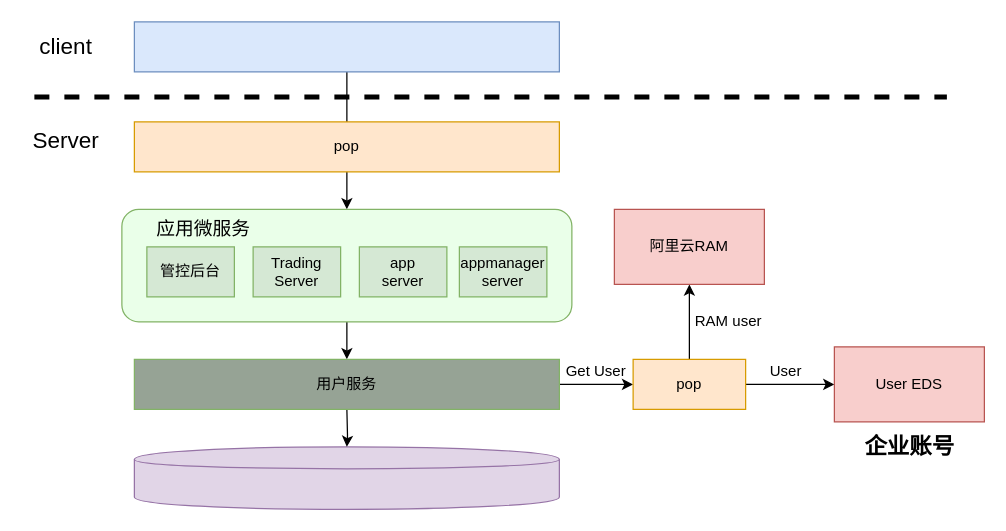
Image size: 1006x531. Some labels were removed from this diagram. Each missing label, with the box of its shape:
RDS: (133, 446, 559, 509)
管控前端: (133, 21, 559, 72)
